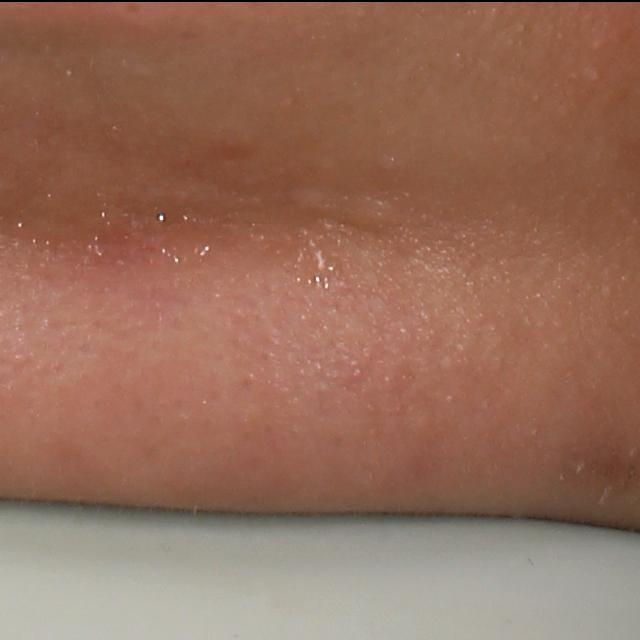hypertrophic_scar: (287, 186, 393, 231)
